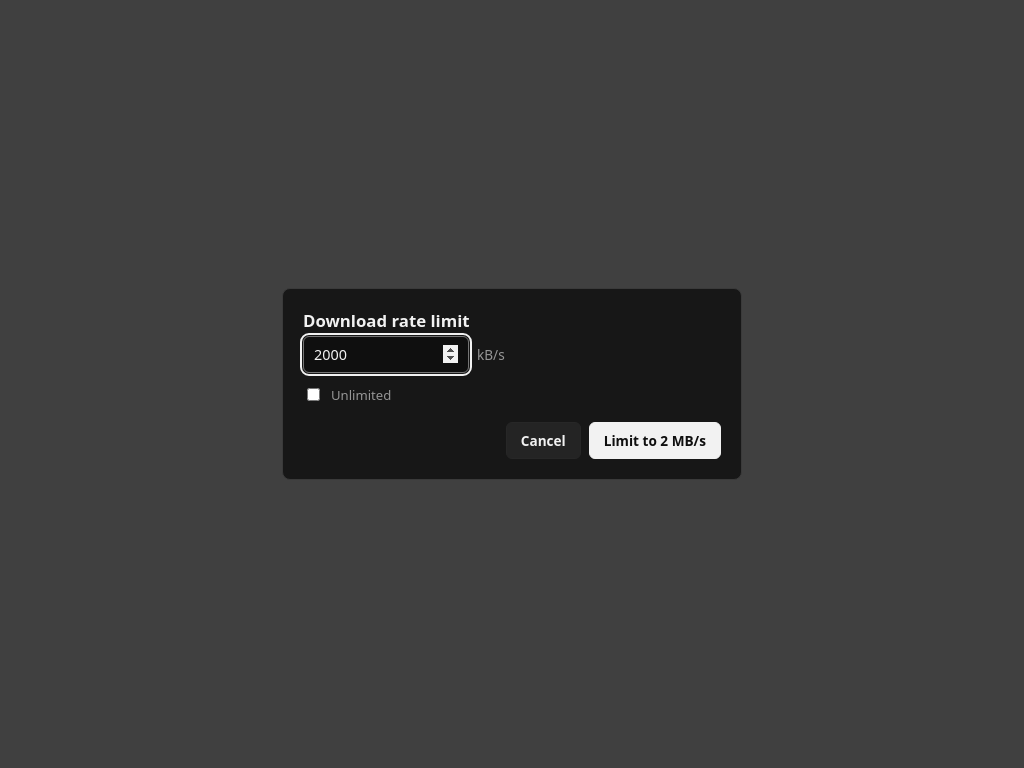
Test: refusing what it cannot read › will not commit an empty field, which is not the same as unlimited
Clear the number field named "Download rate limit, in kilobytes per second" at (386, 354), box [303, 336, 469, 373]
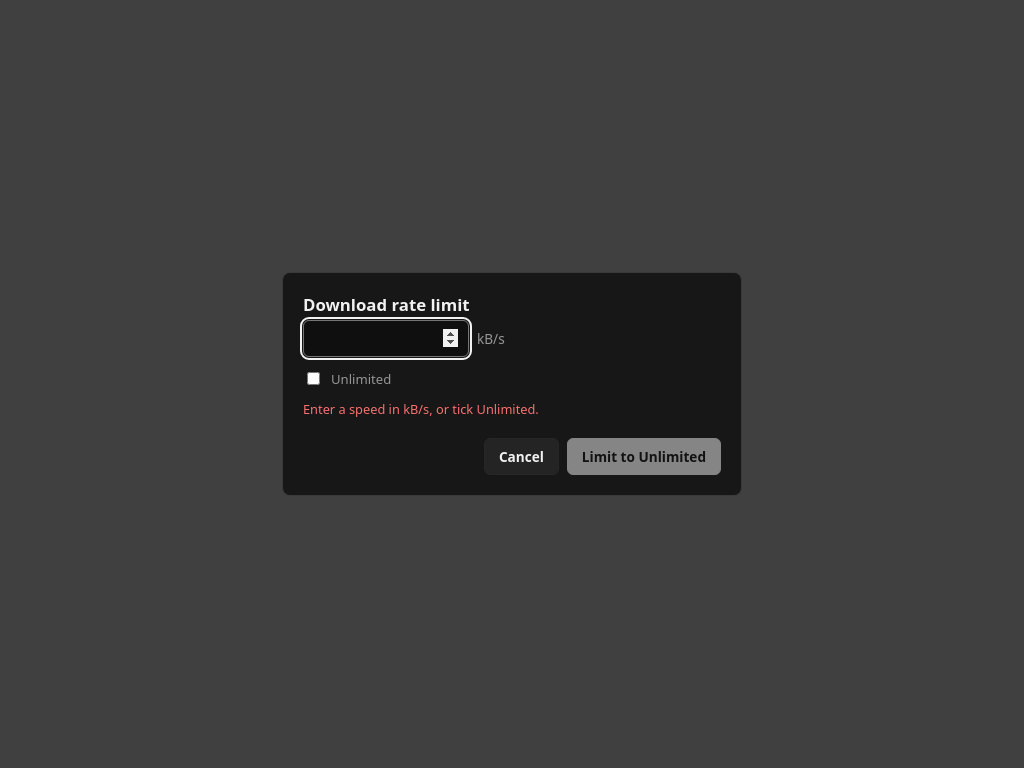
Result: the text "or tick Unlimited" is shown at [303, 400, 539, 418]
